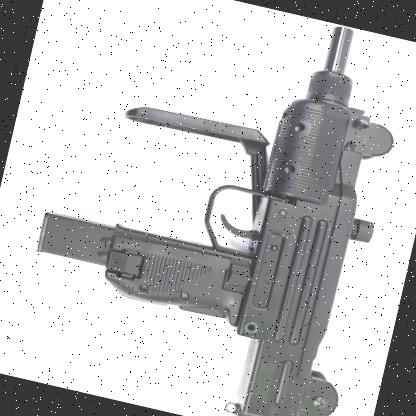rifle: (6, 0, 416, 416)
